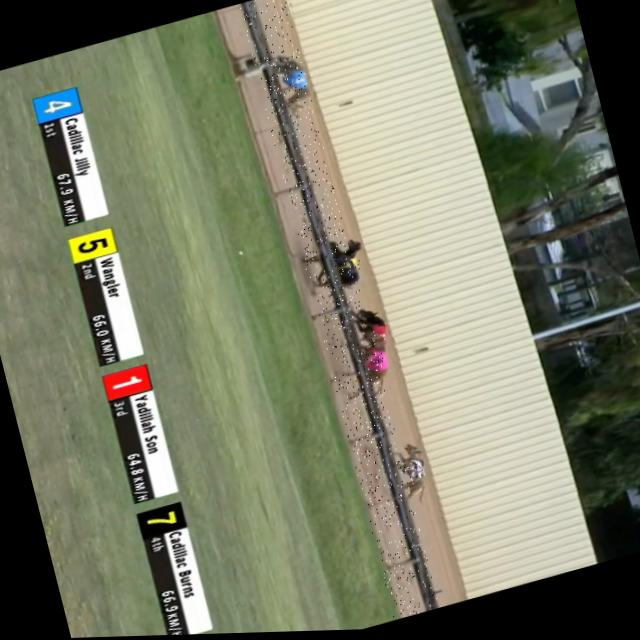dog_eight: (361, 353, 388, 376)
dog_five: (346, 259, 362, 276)
dog_four: (281, 70, 307, 93)
dog_one: (368, 323, 388, 348)
dog_seven: (332, 259, 352, 276)
dog_two: (399, 460, 428, 489)
rail: (238, 1, 438, 613)
